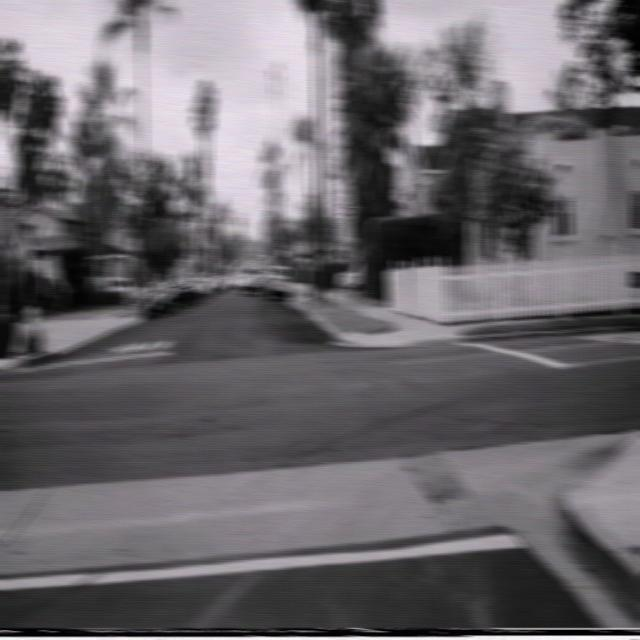speedLimit25: (334, 182, 354, 220)
